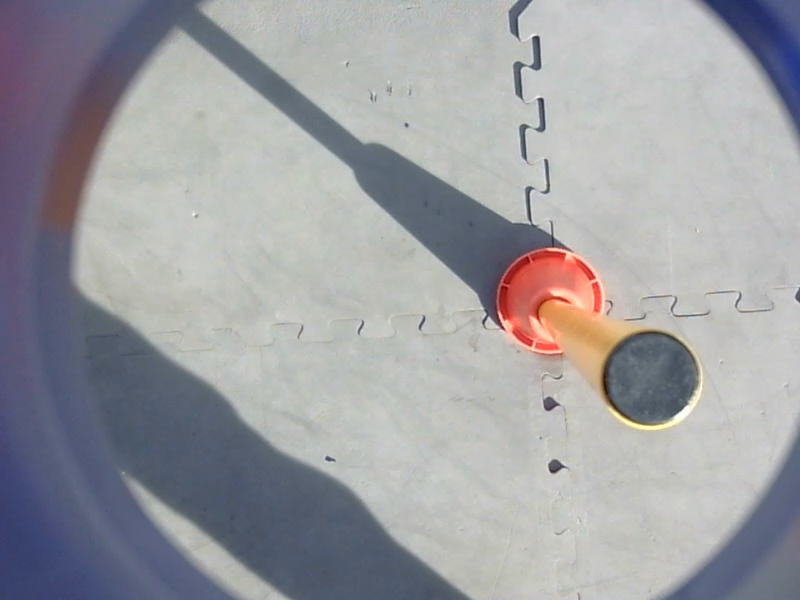tip: (593, 324, 708, 434)
